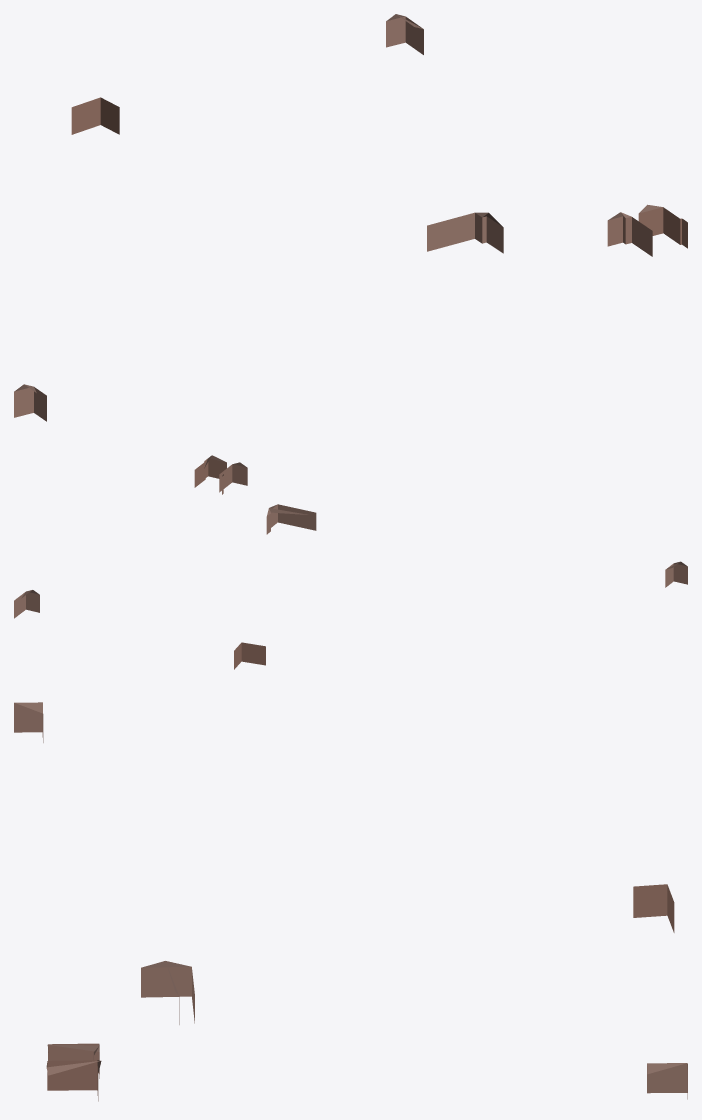
File: c_1634_17833_buildings_residential.glb
3 renders of one model, top to bottom at view 1: azimuth 30°, elevation 25°; view 2: azimuth 150°, elevation 25°; view 3: azimuth 270°, elevation 25°, orthographic. The views are drawn at different scales.
Visible parts, largest first — view 1: geometry_0; view 2: geometry_0; view 3: geometry_0.
Part boxes in pixels (x1,y1,x2,y2): geometry_0: [14, 14, 687, 421]; geometry_0: [14, 455, 687, 669]; geometry_0: [14, 702, 687, 1101].
Size of the model in its own units: 243 by 11.7 by 184.
